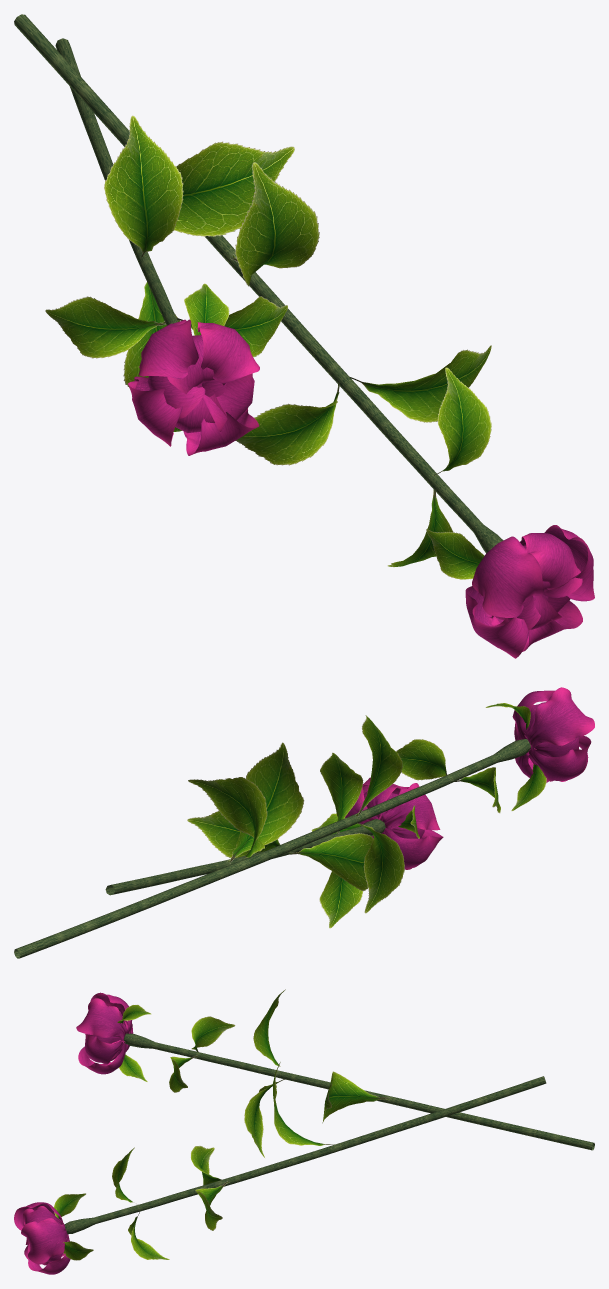
File: body_1.obj
3 views of the same model, one above another, from view 1: azimuth 30°, elevation 25°; view 2: azimuth 150°, elevation 25°; view 3: azimuth 270°, elevation 25° (orthographic). The views are drawn at different scales.
Parts seen in each view (by area): view 1: polySurface83_1008.001; view 2: polySurface83_1008.001; view 3: polySurface83_1008.001.
Part boxes in pixels (x1=…): polySurface83_1008.001: x1=14, y1=14, x2=594, y2=658; polySurface83_1008.001: x1=14, y1=687, x2=594, y2=958; polySurface83_1008.001: x1=14, y1=989, x2=594, y2=1274.
Bounding box in the file's own units: 1.44 × 1.26 × 2.82.
1 material, 1 textured.
